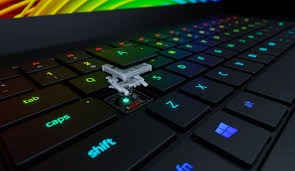keyboard: (2, 3, 292, 171)
